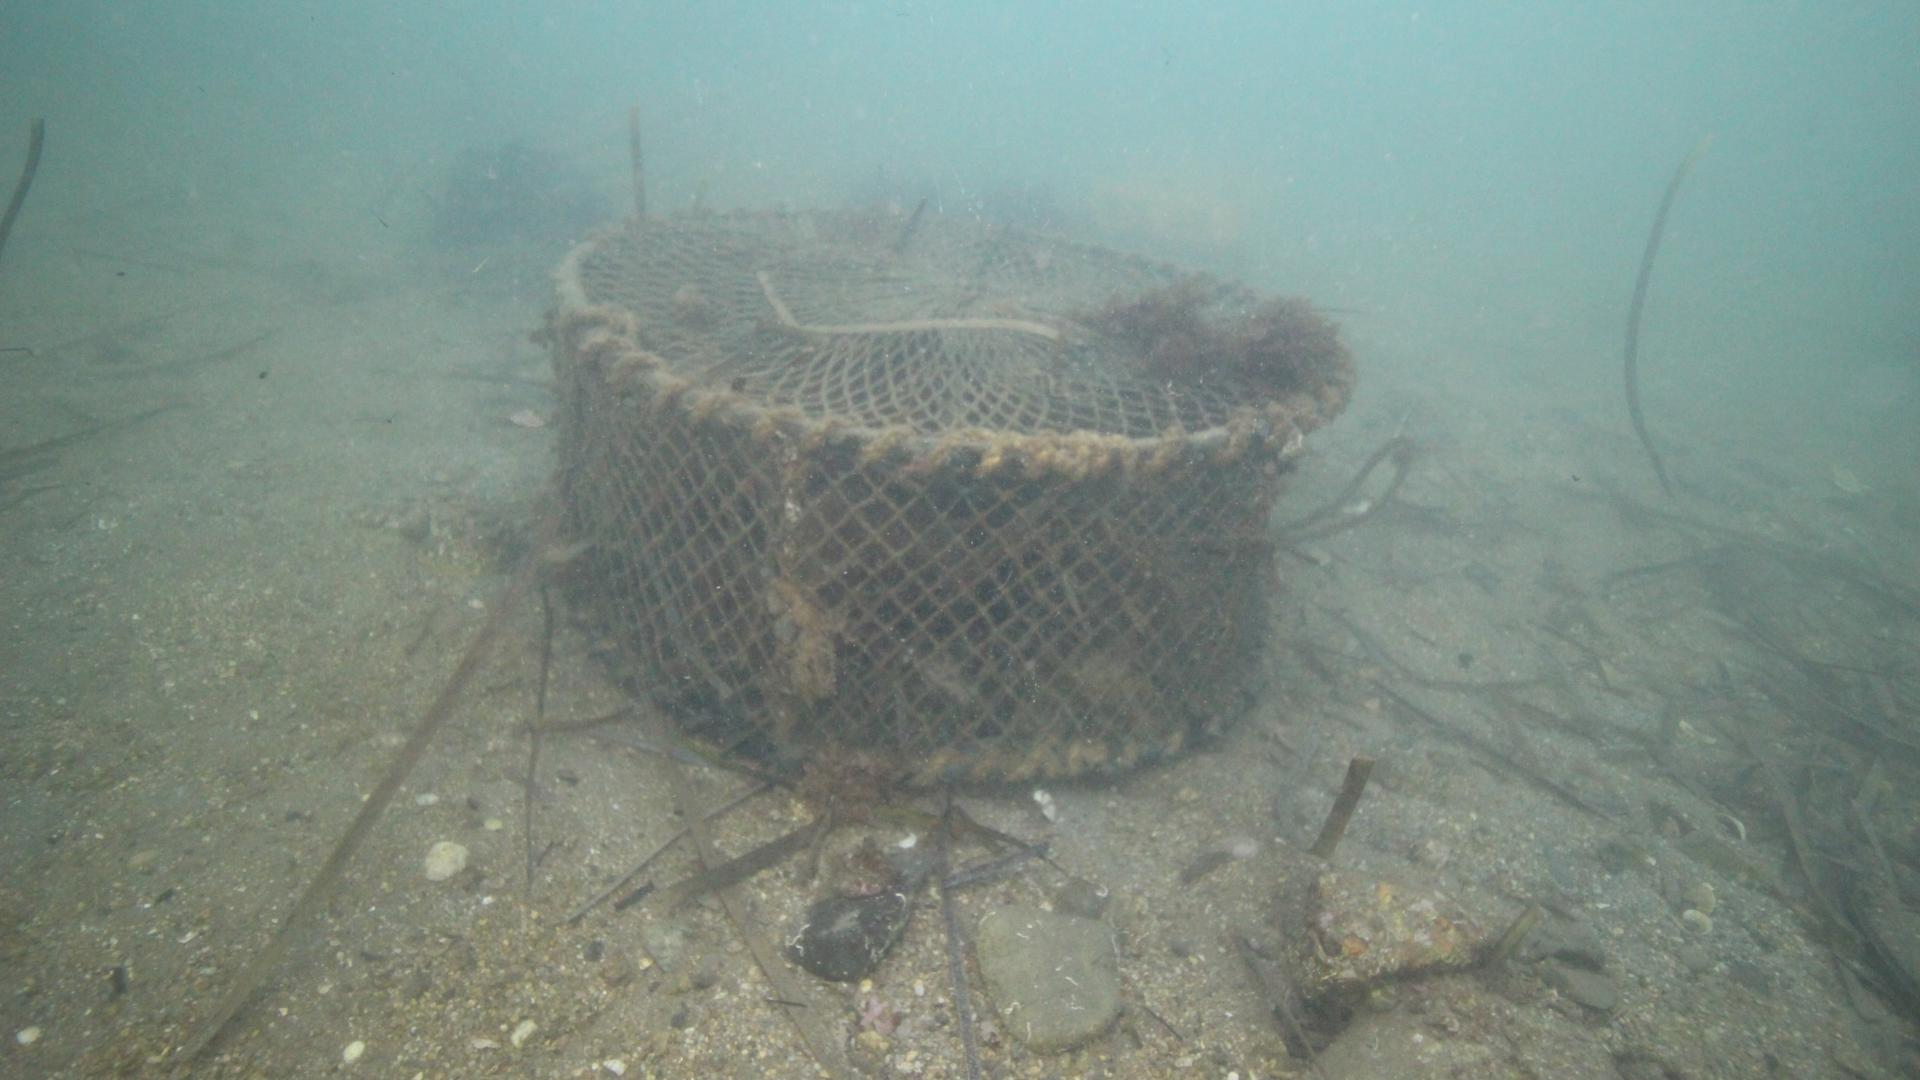circular fish trap: (542, 199, 1356, 783)
rope: (1273, 429, 1420, 545)
